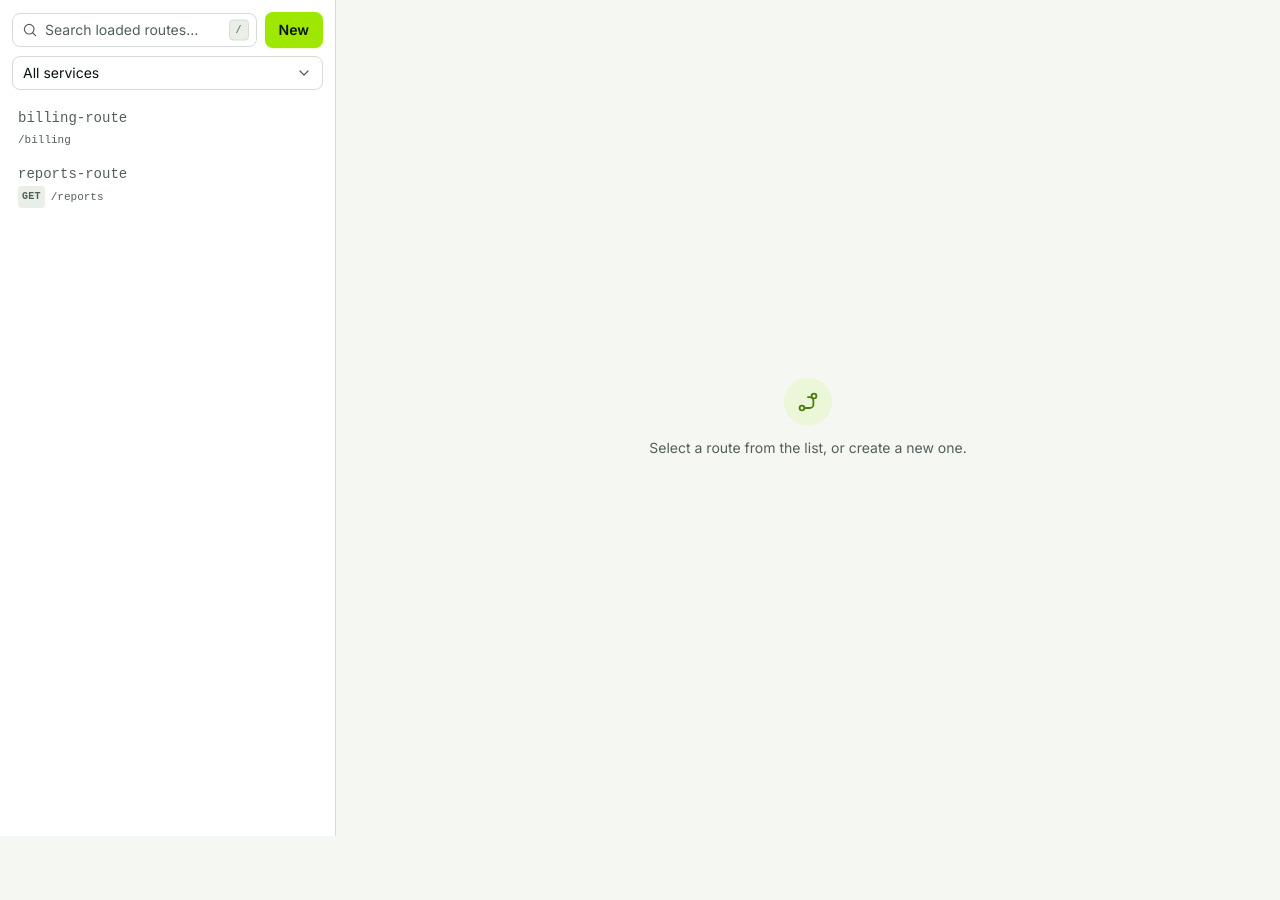
Test: LiveRoutesView › shows Kong field errors in the banner and keeps the form open
Click the button "New".
click(294, 30)  # box [264, 12, 323, 48]
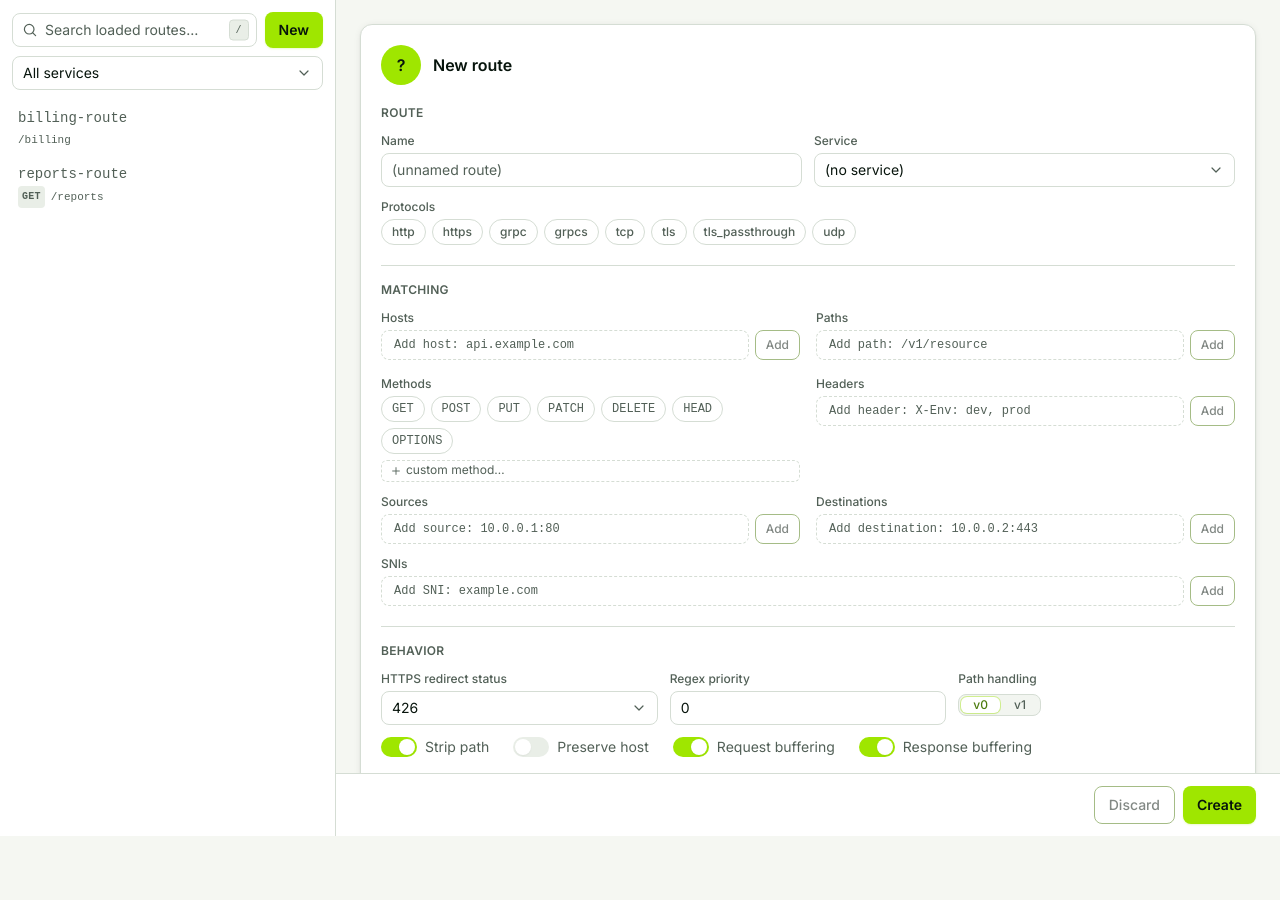
Click the button "http".
click(403, 232)  # box [381, 219, 426, 245]
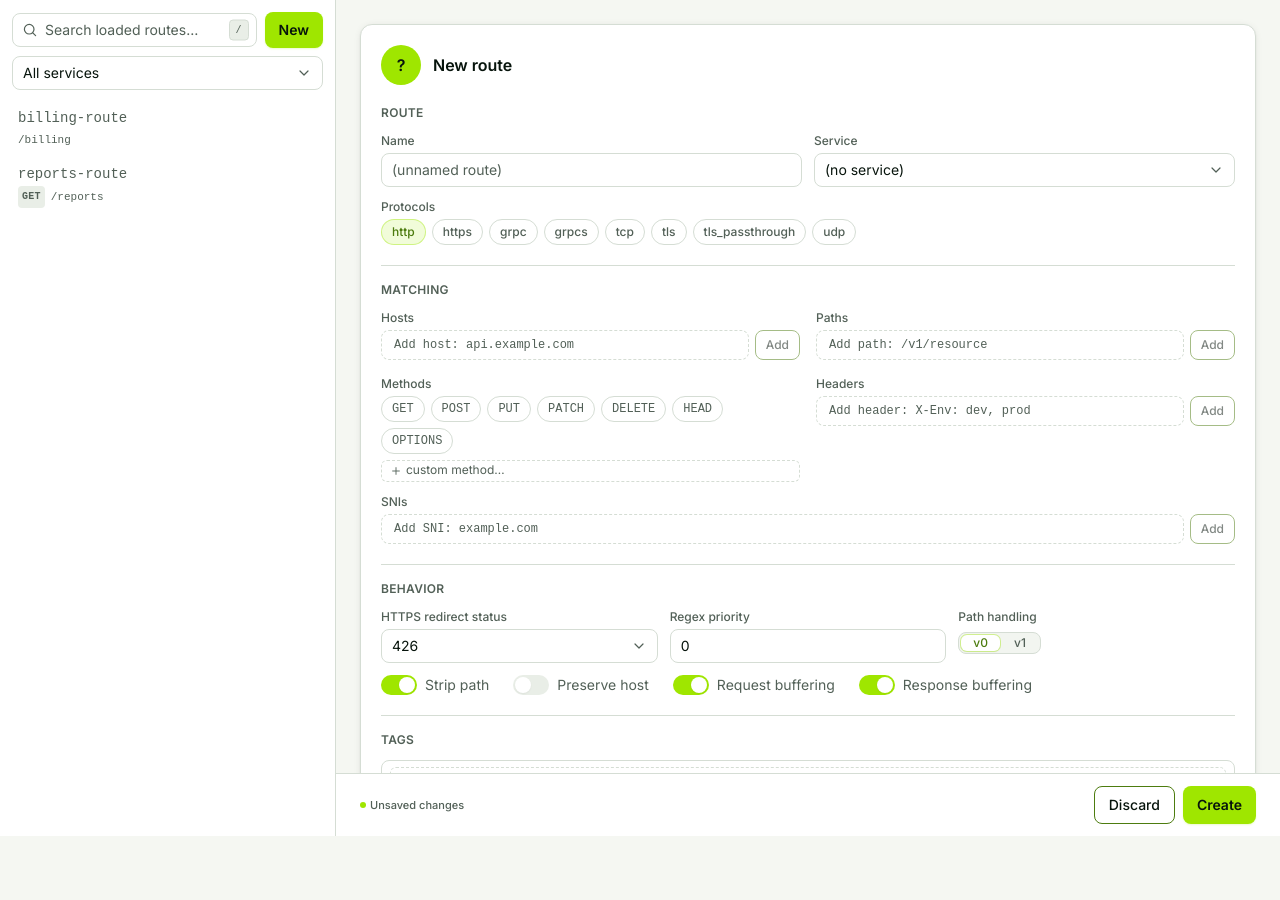
Type "nope" into the field with placeholder "Add path: /v1/resource".
click(1000, 345); type("nope")  # box [816, 330, 1184, 360]
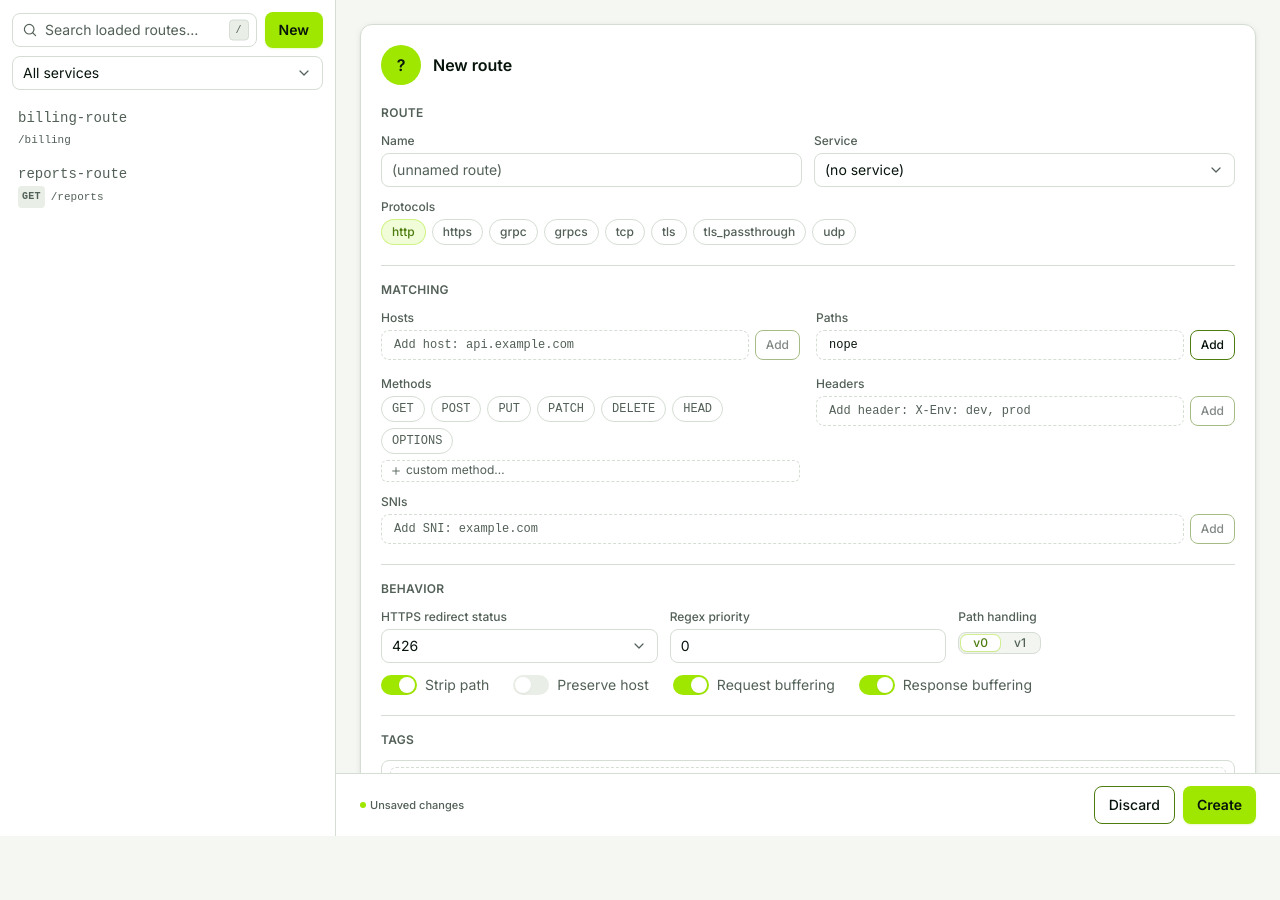
Press Enter in the 4th field, box [816, 330, 1184, 360]
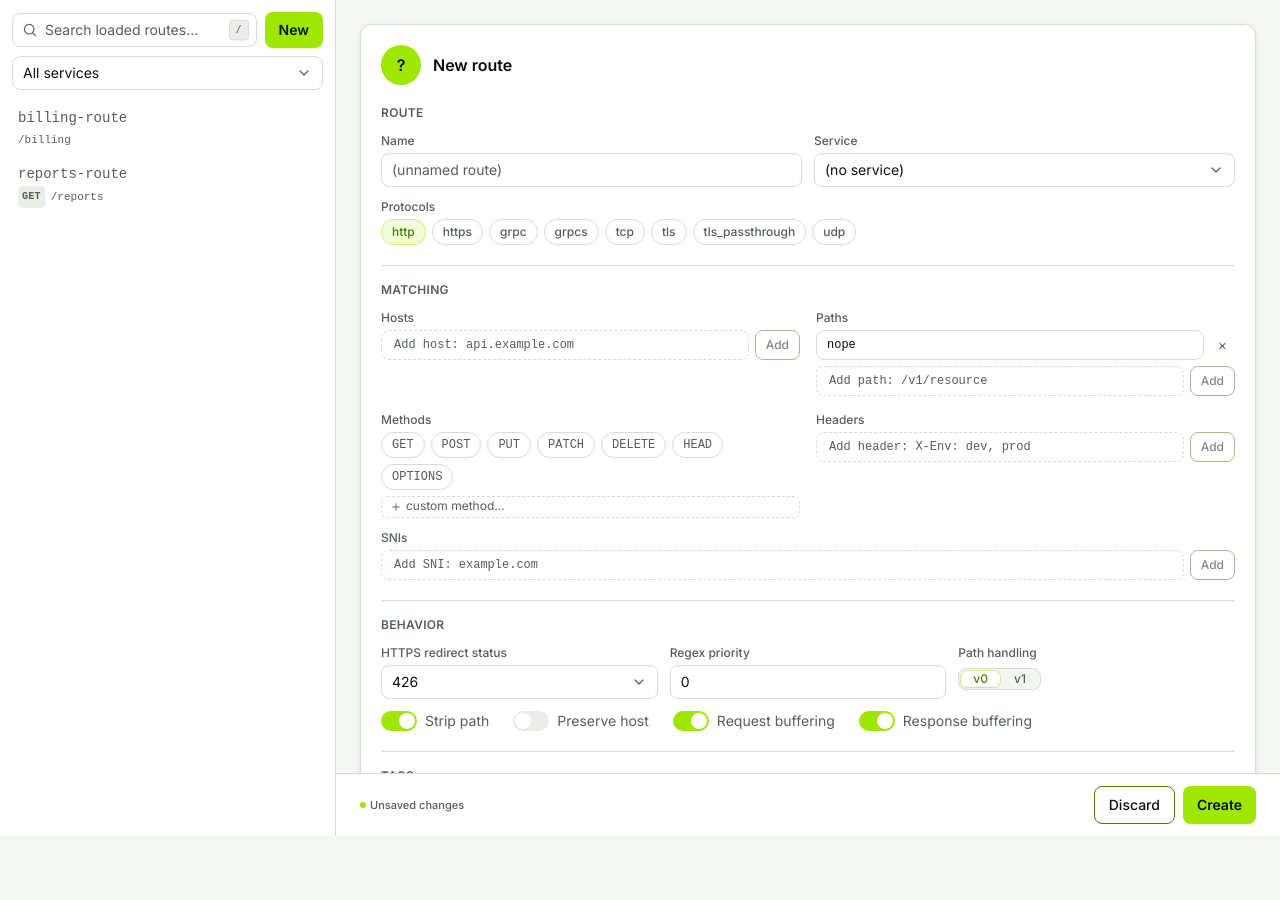
Click the button "Create".
click(1219, 805)  # box [1183, 786, 1256, 824]
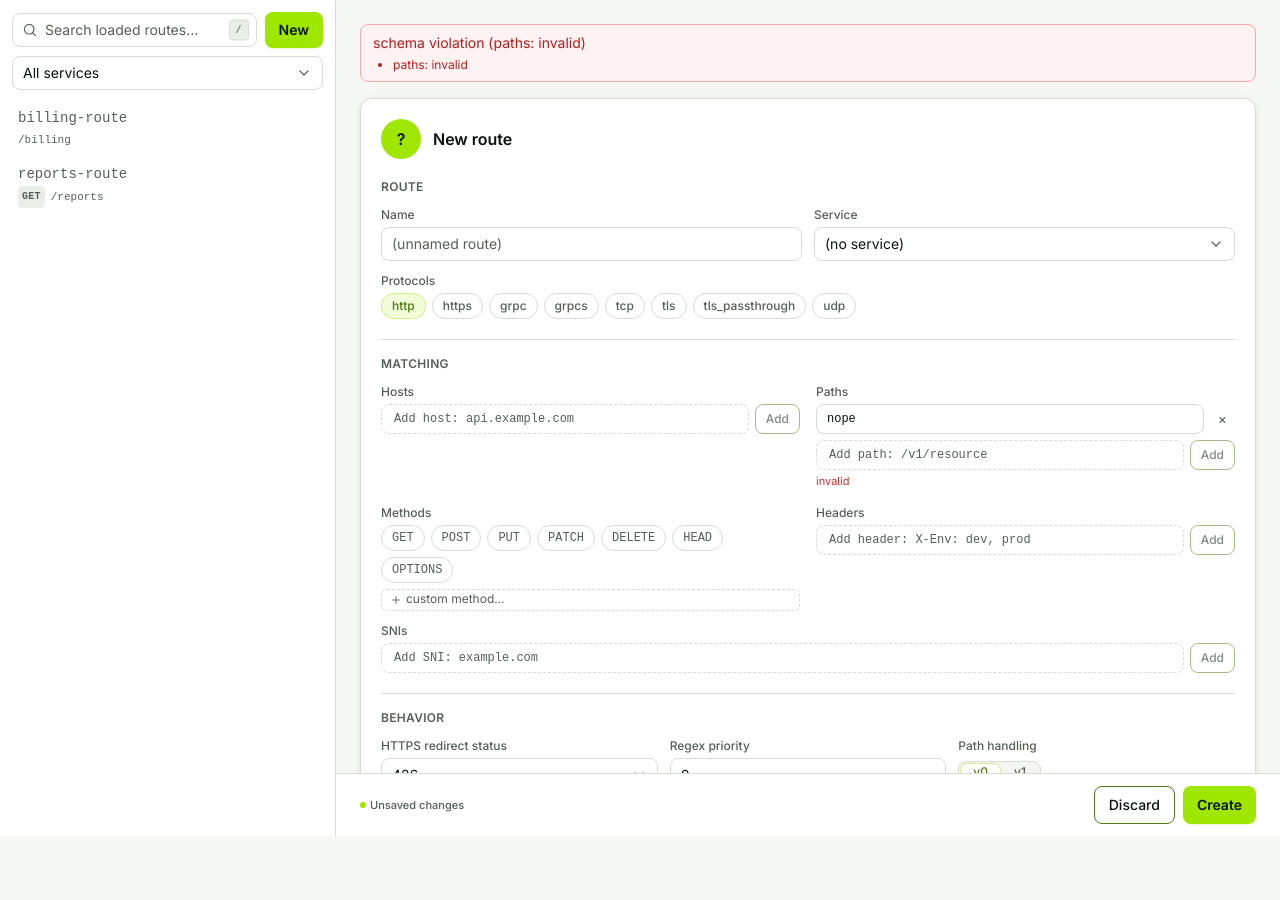
Expected: the message "schema violation (paths: invalid) paths: invalid" is shown, [360, 24, 1256, 82]
